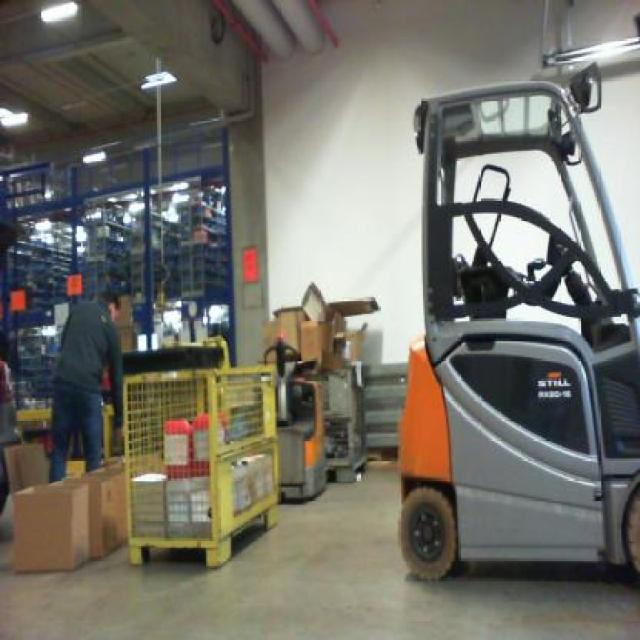ground: (0, 457, 638, 638)
pallet: (129, 500, 281, 572)
